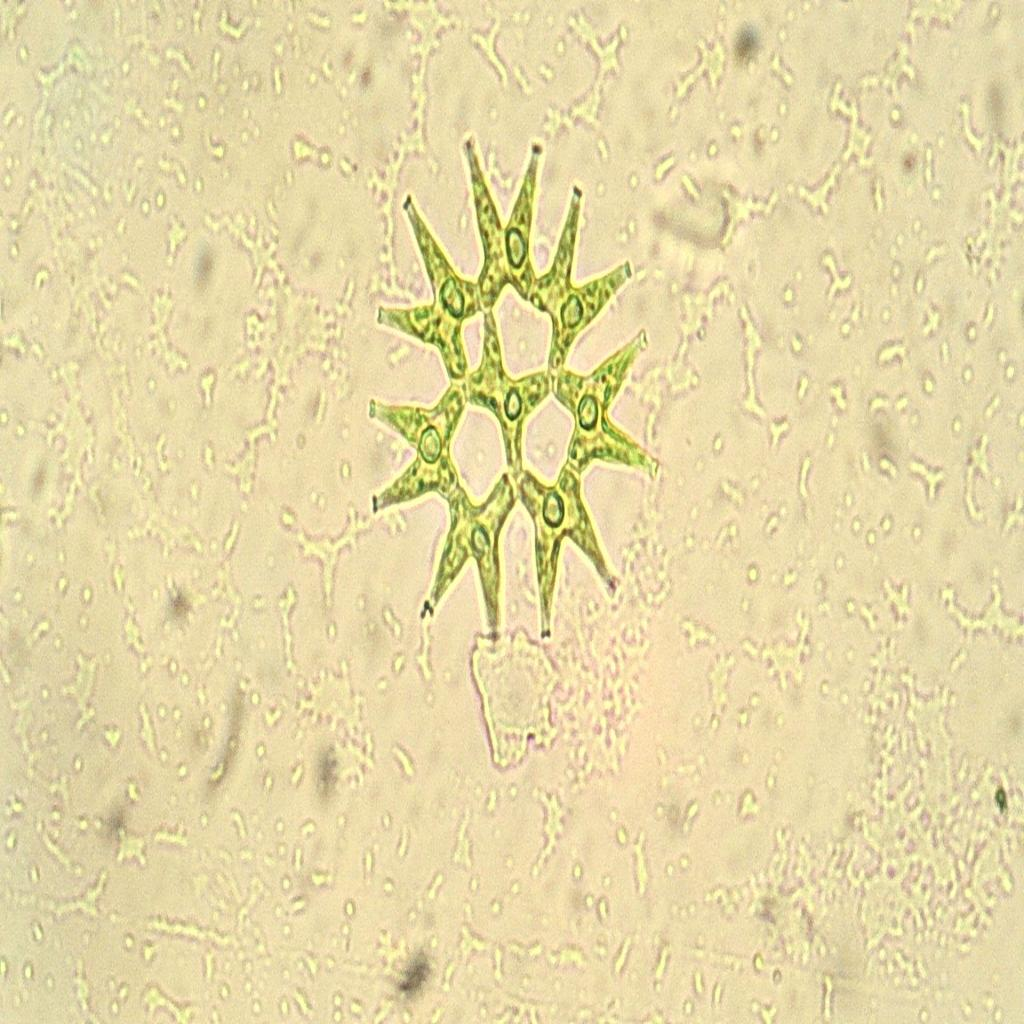Pediastrum_1T: (360, 124, 664, 664)
